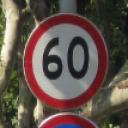speed_limit_60: (24, 12, 108, 107)
